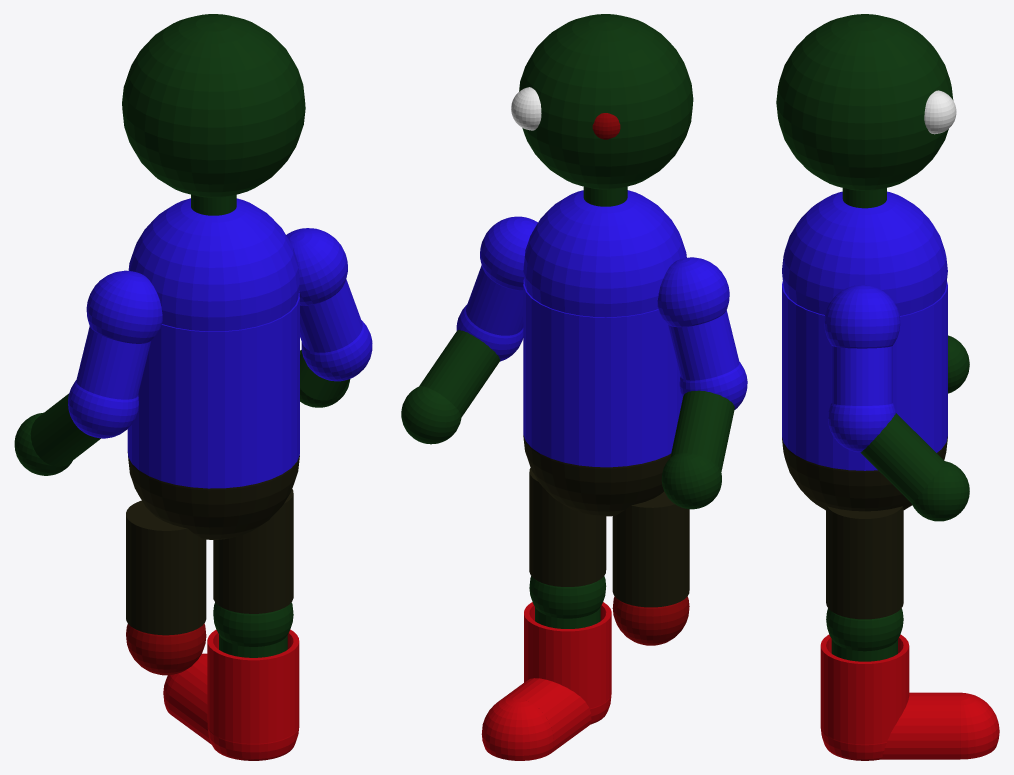
The model's file is zombie 2.fbx.
3 renders of one model, left to right at view 1: azimuth 30°, elevation 25°; view 2: azimuth 150°, elevation 25°; view 3: azimuth 270°, elevation 25°, orthographic. The views are drawn at different scales.
Visible parts, largest first — view 1: Sphere, Cylinder, Sphere.008, Cylinder.014, Cylinder.006, Cylinder.005, Sphere.015, Sphere.002, Cylinder.001, Sphere.007, Cylinder.004, Sphere.014 (+10 smaller); view 2: Cylinder, Sphere, Sphere.008, Cylinder.014, Cylinder.005, Cylinder.006, Sphere.015, Sphere.002, Sphere.011, Cylinder.003, Cylinder.002, Cylinder.001 (+13 smaller); view 3: Sphere, Cylinder, Sphere.008, Cylinder.005, Cylinder.006, Cylinder.009, Sphere.015, Sphere.007, Cylinder.003, Cylinder.004, Sphere.009, Sphere.006 (+7 smaller).
Boxes of the visible parts, x1,y1,x2,y2 form: Sphere: (122,14,305,197); Cylinder: (127,291,299,488); Sphere.008: (128,198,299,331); Cylinder.014: (126,500,206,635); Cylinder.006: (207,629,299,743); Cylinder.005: (213,489,293,613); Sphere.015: (127,452,299,539); Sphere.002: (86,270,162,343); Cylinder.001: (76,326,150,399); Sphere.007: (286,228,347,305); Cylinder.004: (300,279,362,352); Sphere.014: (126,623,206,675); Cylinder: (523,279,682,467); Sphere: (519,14,693,189); Sphere.008: (523,190,686,317); Cylinder.014: (612,491,689,607); Cylinder.005: (529,468,606,586); Cylinder.006: (524,602,611,708); Sphere.015: (523,435,671,516); Sphere.002: (657,257,729,327); Sphere.011: (481,697,553,760); Cylinder.003: (419,330,500,417); Cylinder.002: (670,390,734,471); Cylinder.001: (668,310,739,380); Sphere: (776,14,953,190); Cylinder: (782,281,947,470); Sphere.008: (782,191,947,315); Cylinder.005: (826,506,903,619); Cylinder.006: (820,634,909,744); Cylinder.009: (881,692,960,759); Sphere.015: (782,436,947,511); Sphere.007: (824,285,900,348); Cylinder.003: (860,413,944,503); Cylinder.004: (831,346,892,405); Sphere.009: (826,608,903,651); Sphere.006: (828,403,895,452).
Size of the model in its own units: 329 by 701 by 202.
